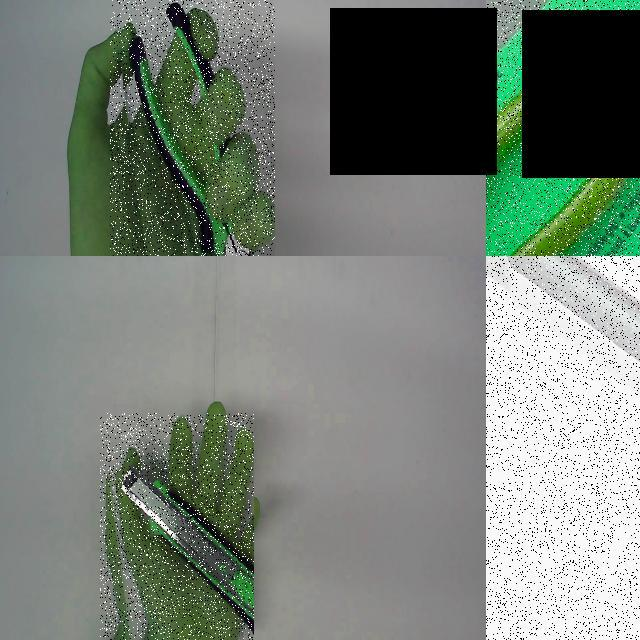estilete: (122, 470, 251, 628)
